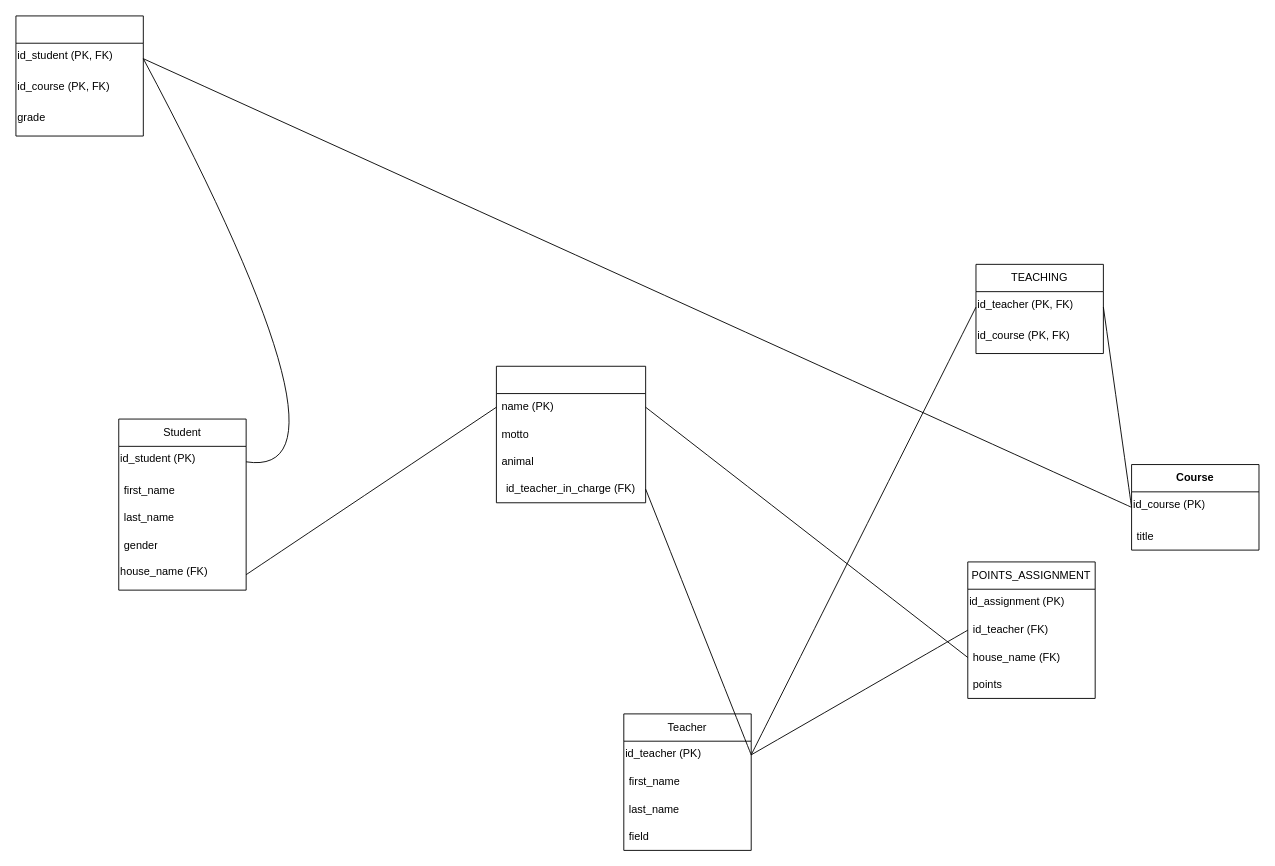
Image size: 1275x866. Some labels were removed from this diagram. The shapes that lost their labels are listed below. From the top down, each one's box as (x1, y1, x2, y2) in pixels, then its label:
(15, 15, 143, 136): ENROLLMENT
(495, 365, 646, 503): House
